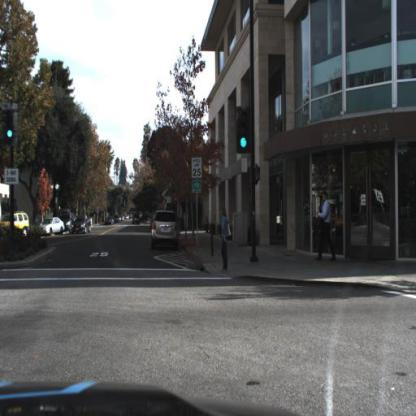car: (150, 208, 181, 249), (1, 212, 32, 237), (39, 218, 66, 239), (70, 214, 94, 237)
pedestrian: (319, 191, 335, 259), (221, 206, 230, 270)
trafficLight: (236, 109, 250, 153), (6, 112, 15, 140)
trafficLight-Green: (239, 114, 248, 152)
